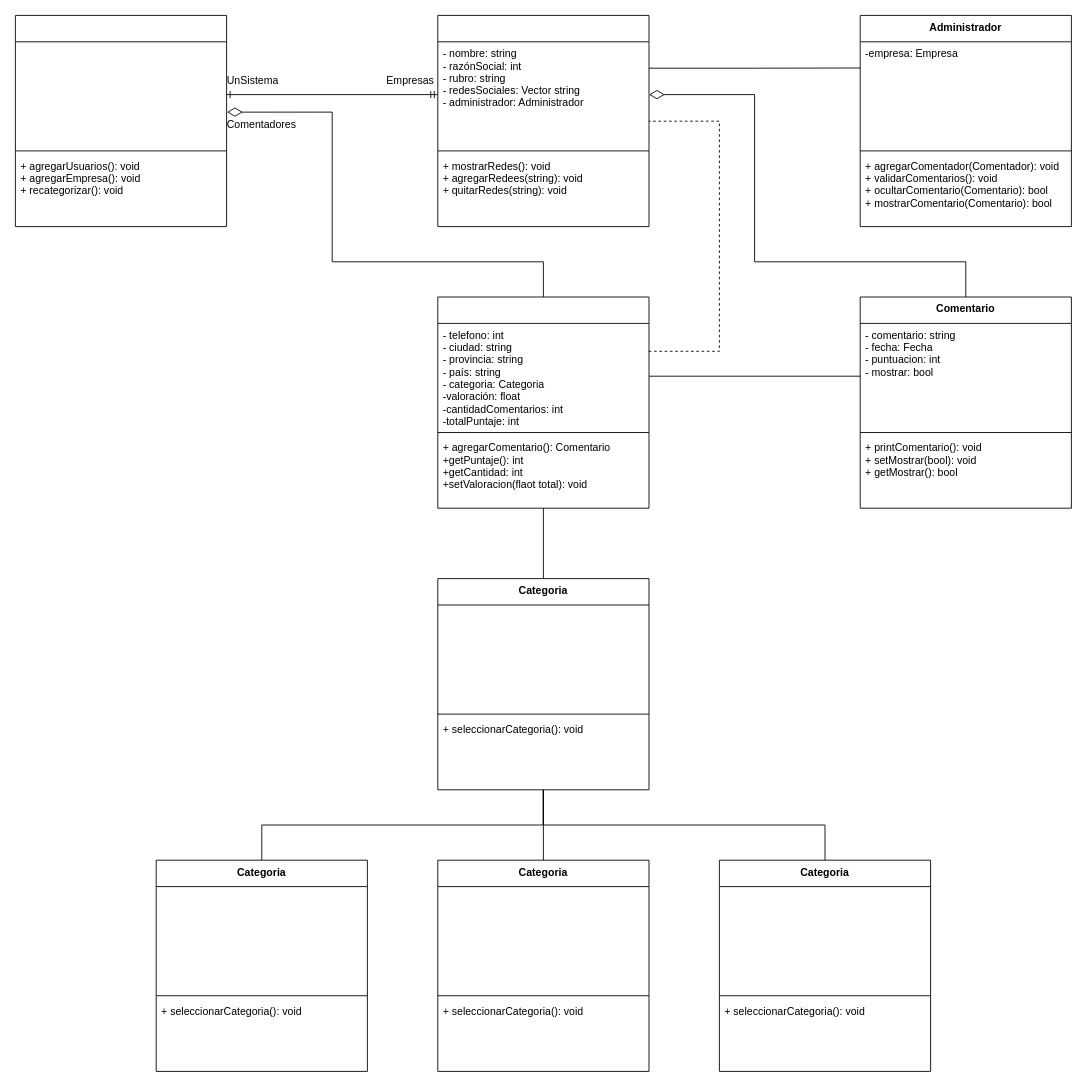
Some shapes in this 1087 by 1089 pixel diagram are drawn without their labels. The box of each missing label's shape, as (x1, y1, x2, y2) in pixels:
Comentador: (437, 296, 649, 508)
Empresa: (437, 15, 649, 227)
Sistema: (15, 15, 227, 227)
